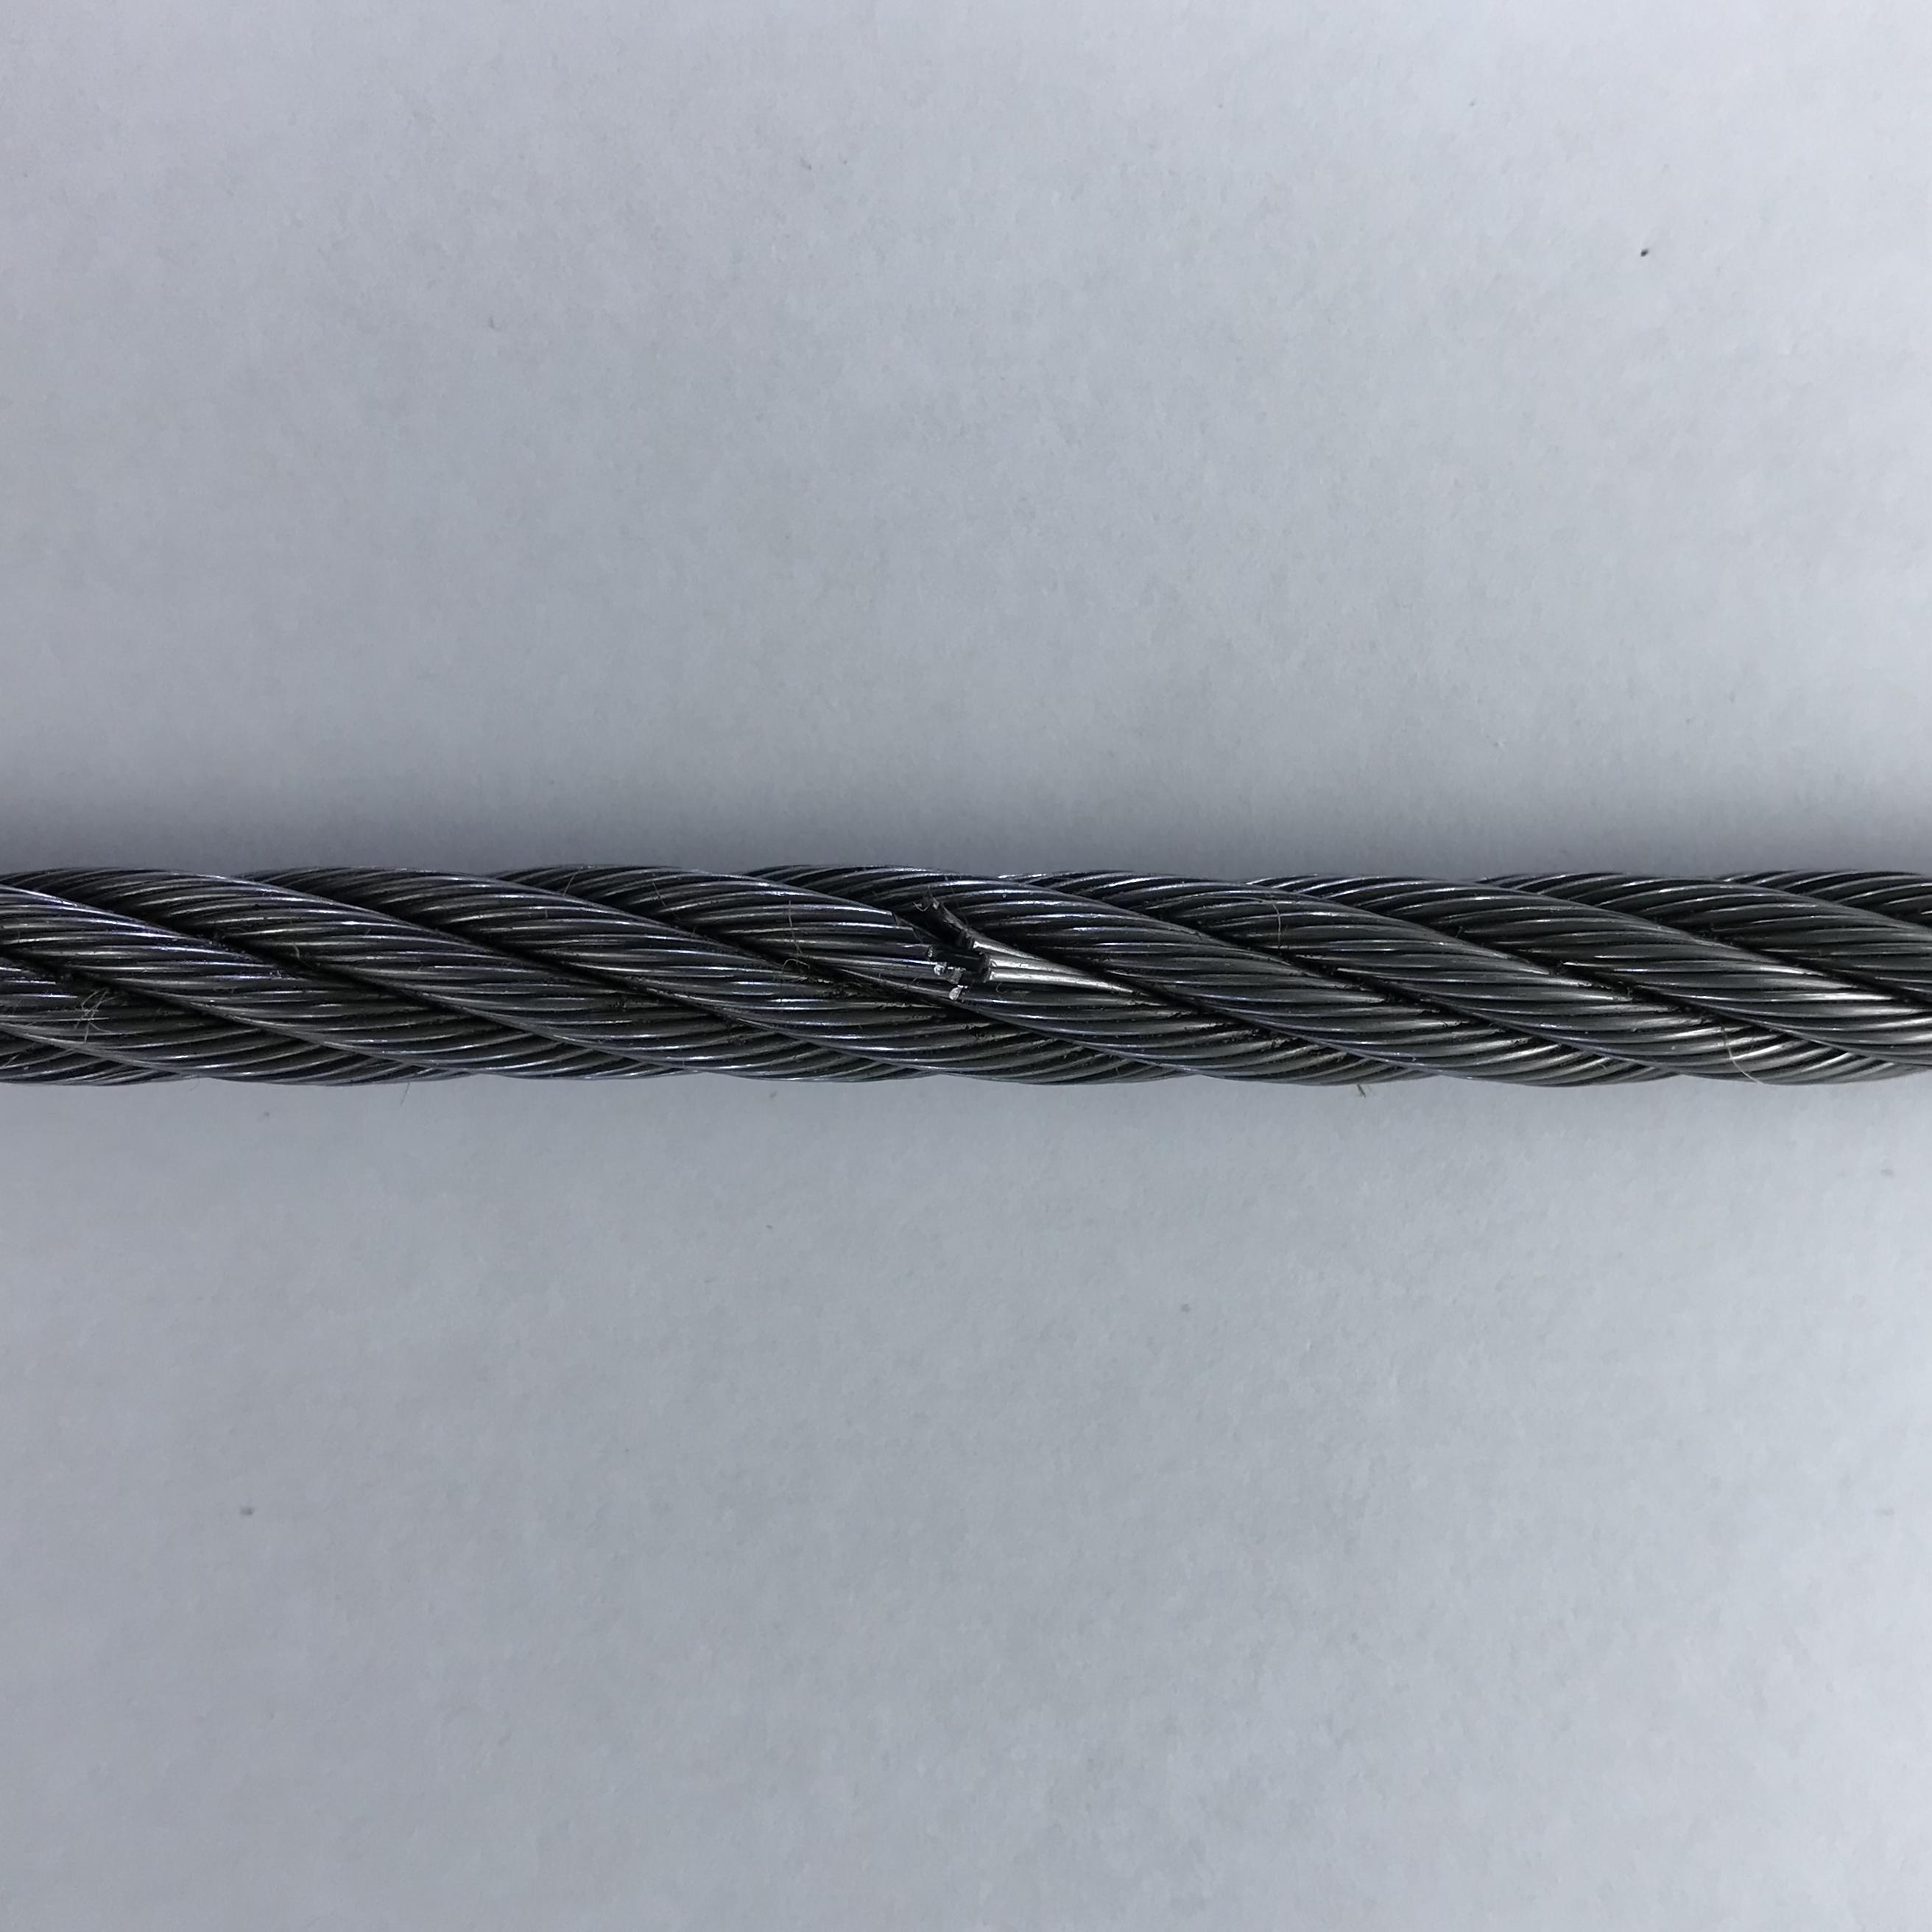break: (881, 890, 1019, 1014)
